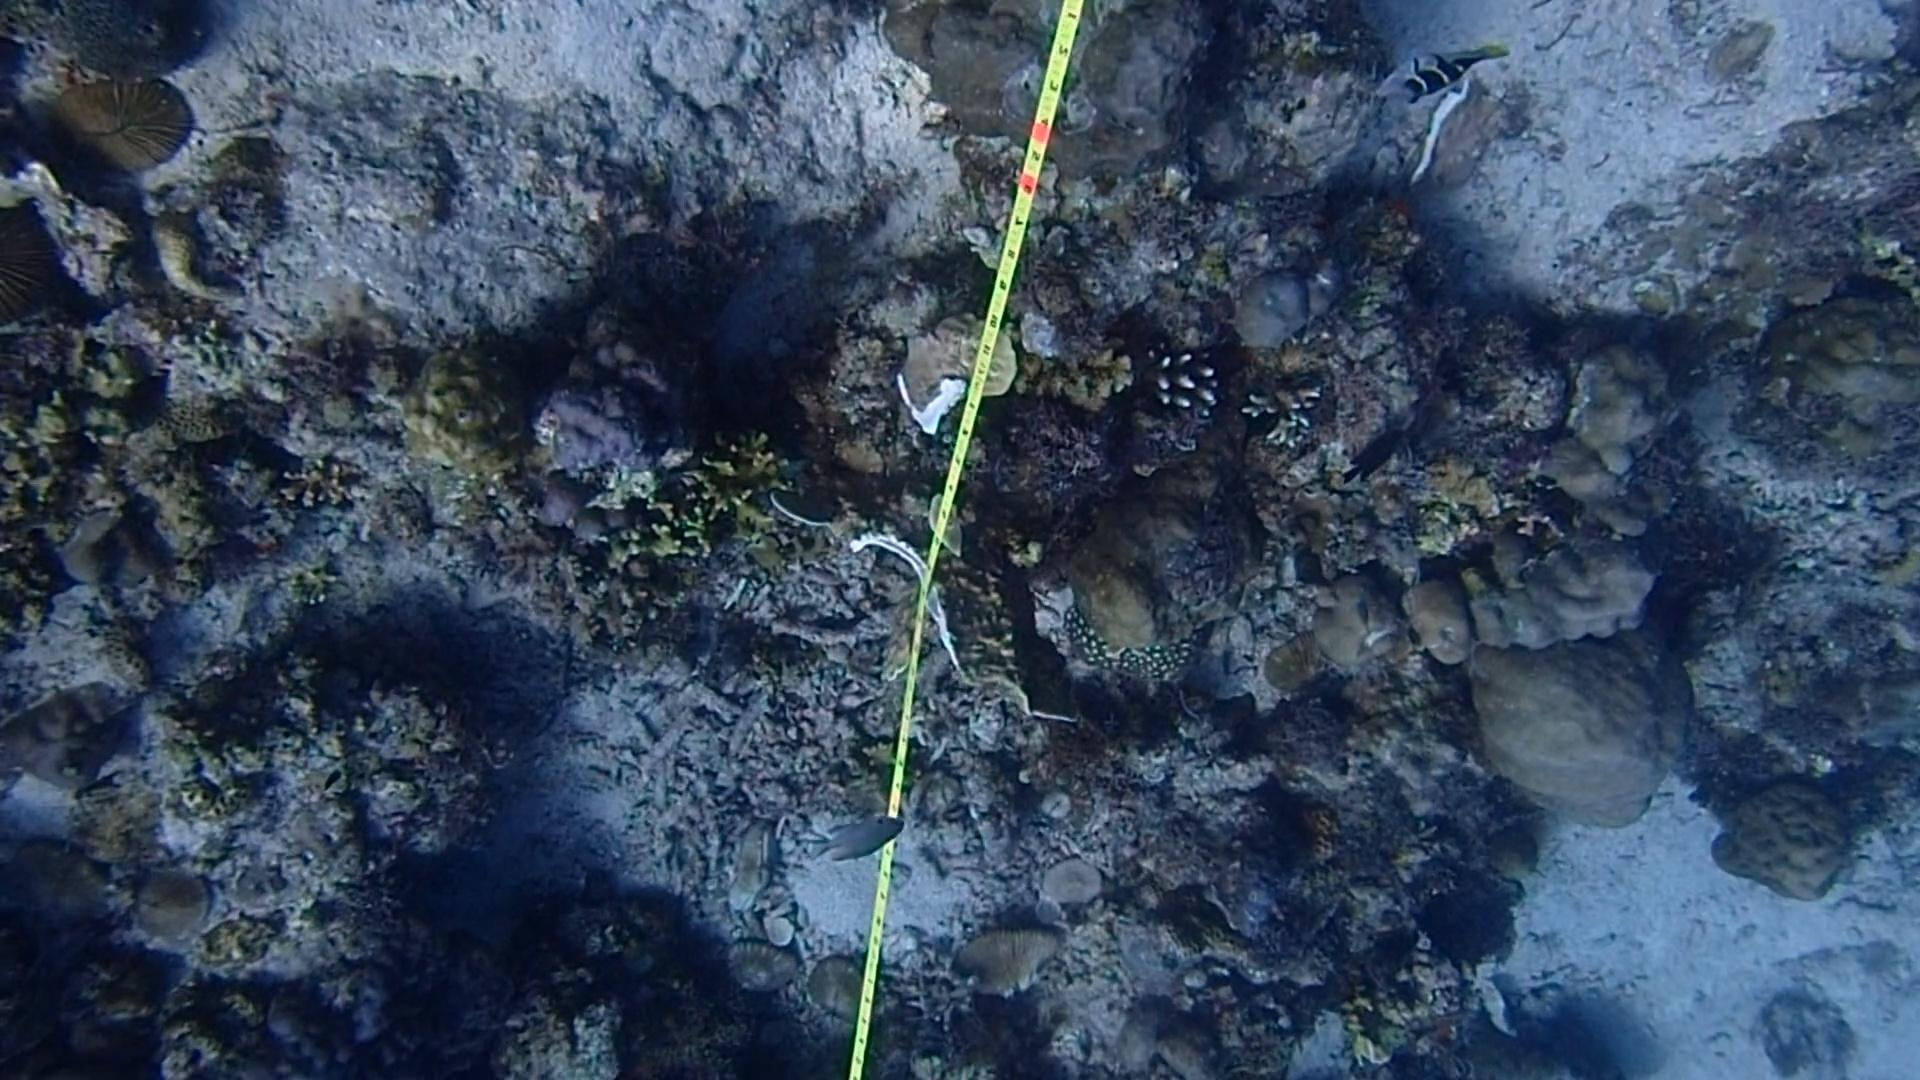Striped Fish: (1389, 33, 1509, 112)
